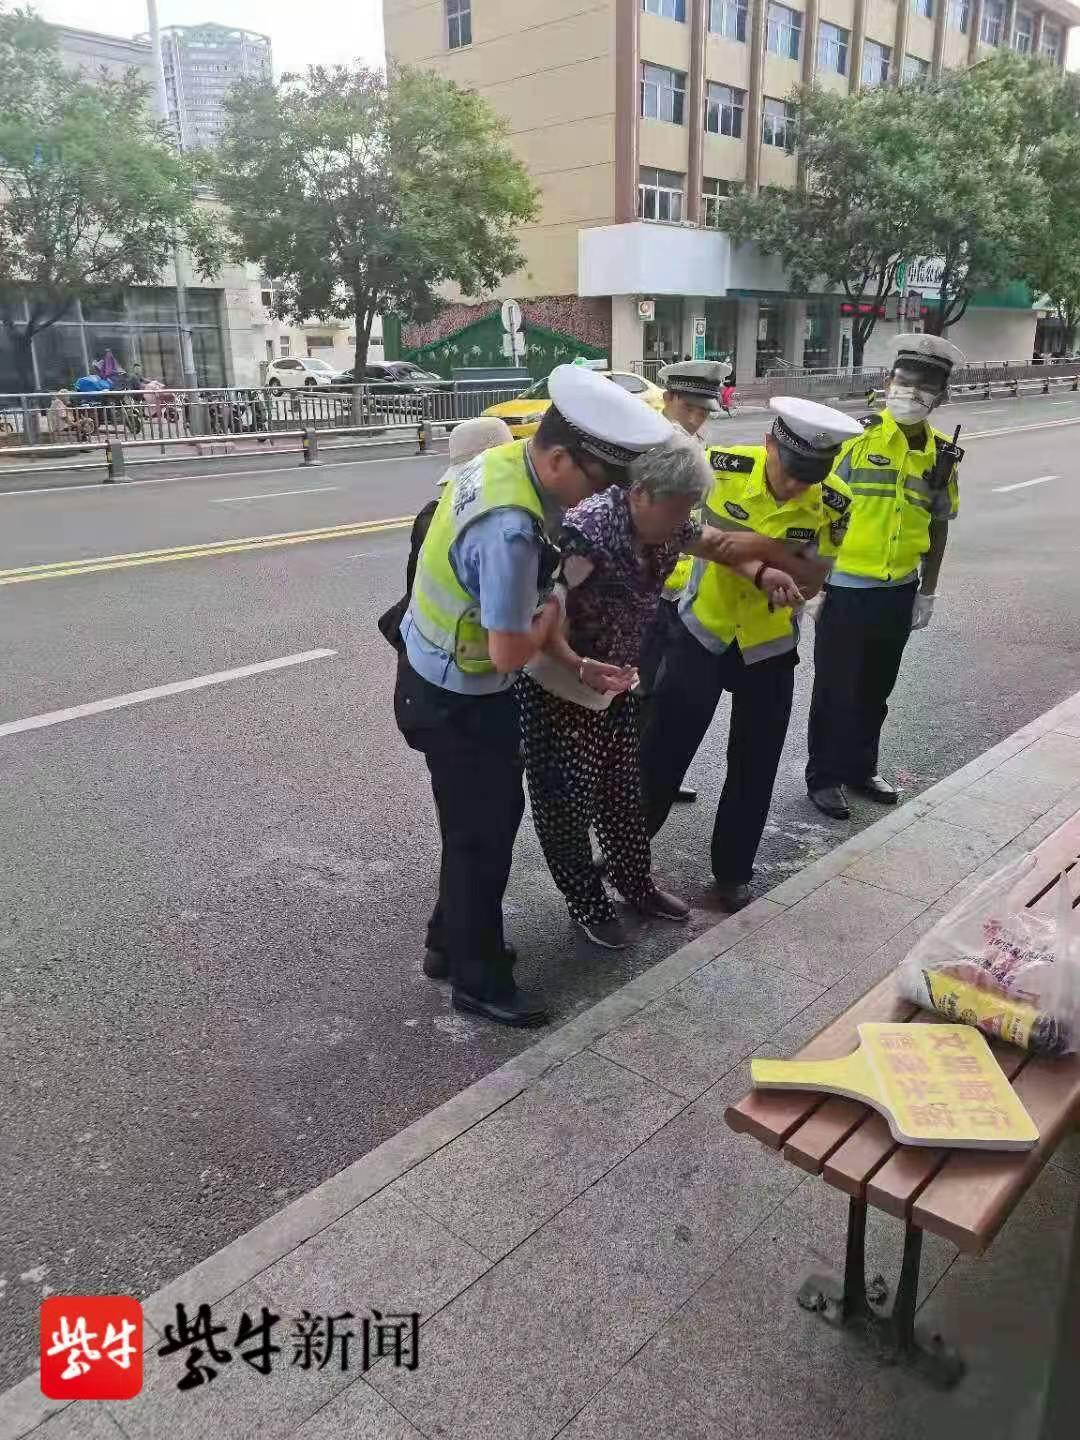bending: (379, 370, 596, 1047), (663, 392, 854, 915), (532, 454, 699, 962)
up: (802, 324, 969, 838)
